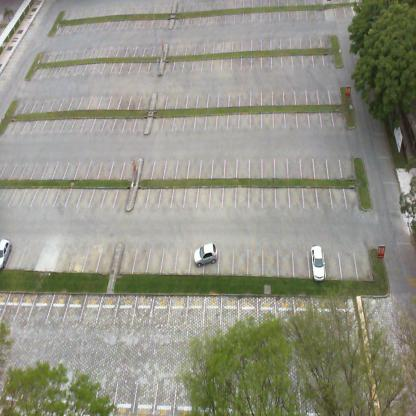car: (193, 242, 218, 268), (310, 242, 326, 278), (0, 237, 12, 270)
